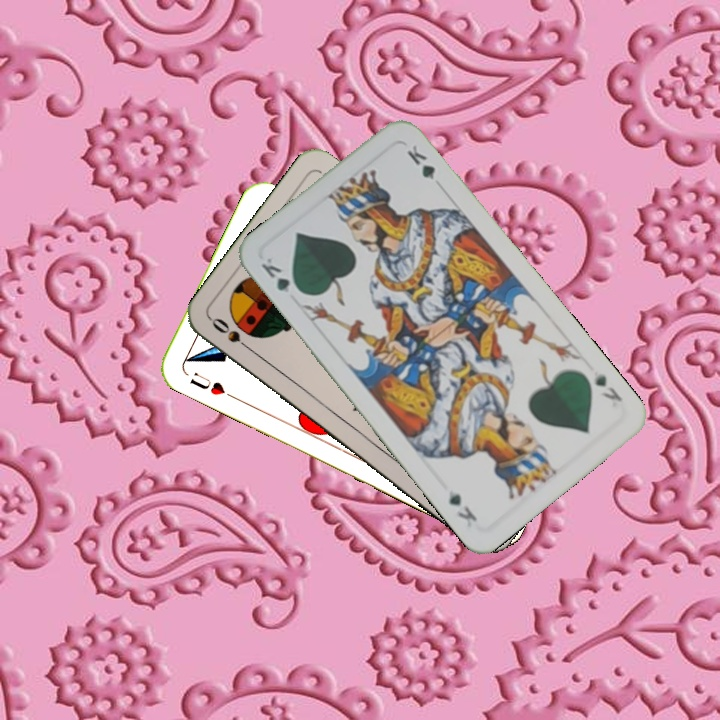GK: (256, 253, 306, 298), (590, 369, 625, 405)
HU: (186, 368, 228, 398)
SO: (207, 313, 258, 356)
